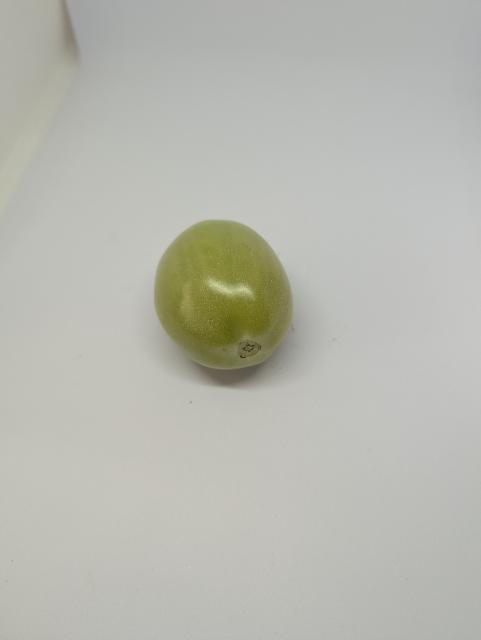green: (146, 213, 306, 392)
